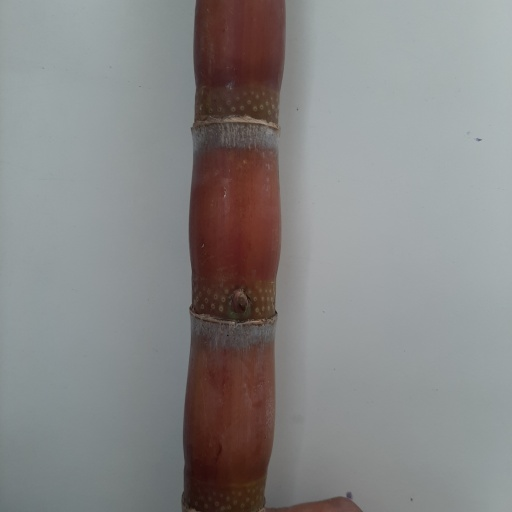Bud: (232, 290, 249, 315)
